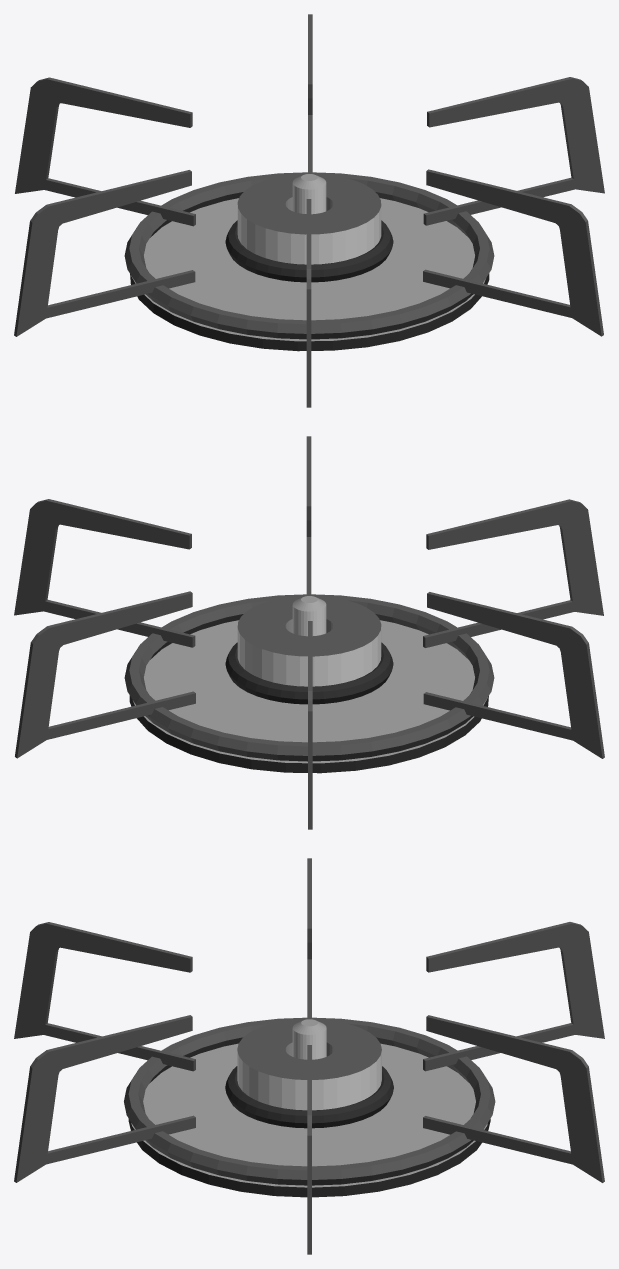
Rendered from burner.fbx.
The picture shows the model from 3 angles, top to bottom: view 1: azimuth 30°, elevation 25°; view 2: azimuth 150°, elevation 25°; view 3: azimuth 270°, elevation 25°; orthographic projection.
Visible parts, largest first — view 1: Cube; view 2: Cube; view 3: Cube.
Boxes of the visible parts, bbox=[...] form: Cube: bbox=[14, 14, 604, 407]; Cube: bbox=[14, 436, 604, 829]; Cube: bbox=[14, 858, 604, 1254].
Size of the model in its own units: 283 by 61.36 by 245.
1 material, 1 textured.
